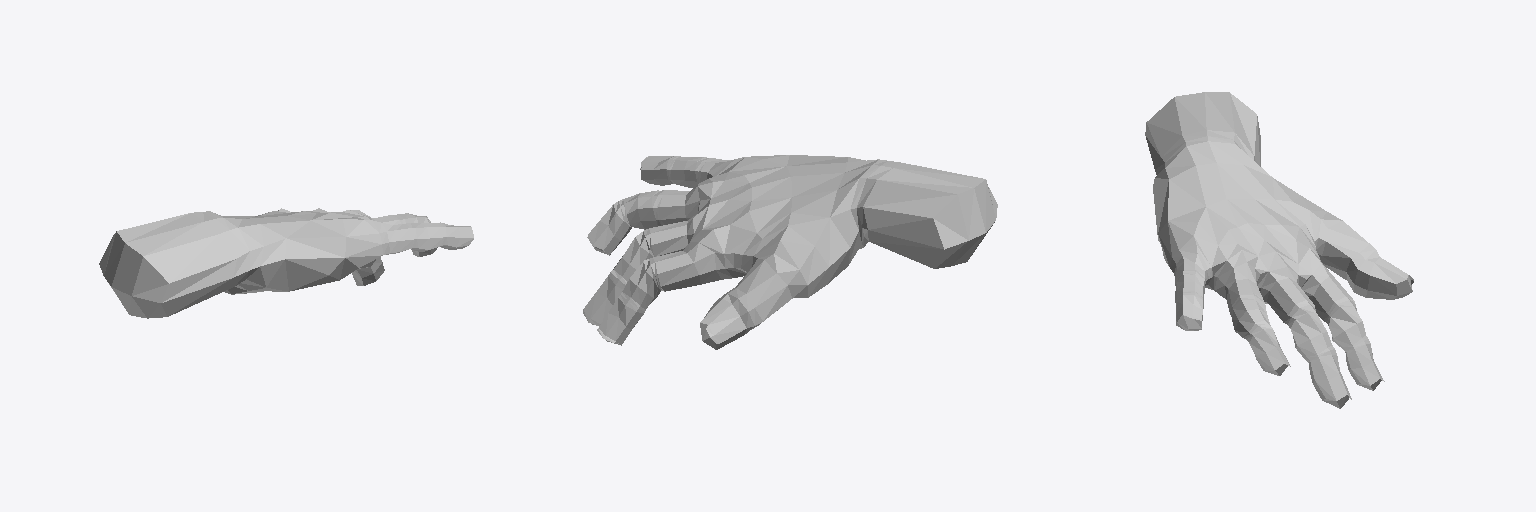
File: hand.obj
The picture shows the model from 3 angles: view 1: azimuth 30°, elevation 25°; view 2: azimuth 150°, elevation 25°; view 3: azimuth 270°, elevation 25°; orthographic projection.
Visible parts, largest first — view 1: Mano; view 2: Mano; view 3: Mano.
Part boxes in pixels (x1,y1,x2,y2): Mano: (99, 208, 473, 318); Mano: (583, 155, 997, 349); Mano: (1145, 92, 1413, 408).
Size of the model in its own units: 2.79 by 1.22 by 1.79.